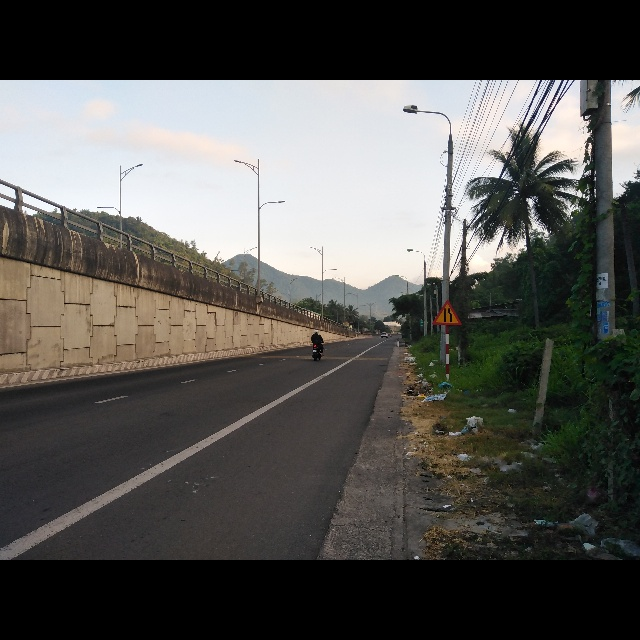Đường bị hẹp bên phải: (432, 299, 462, 325)
